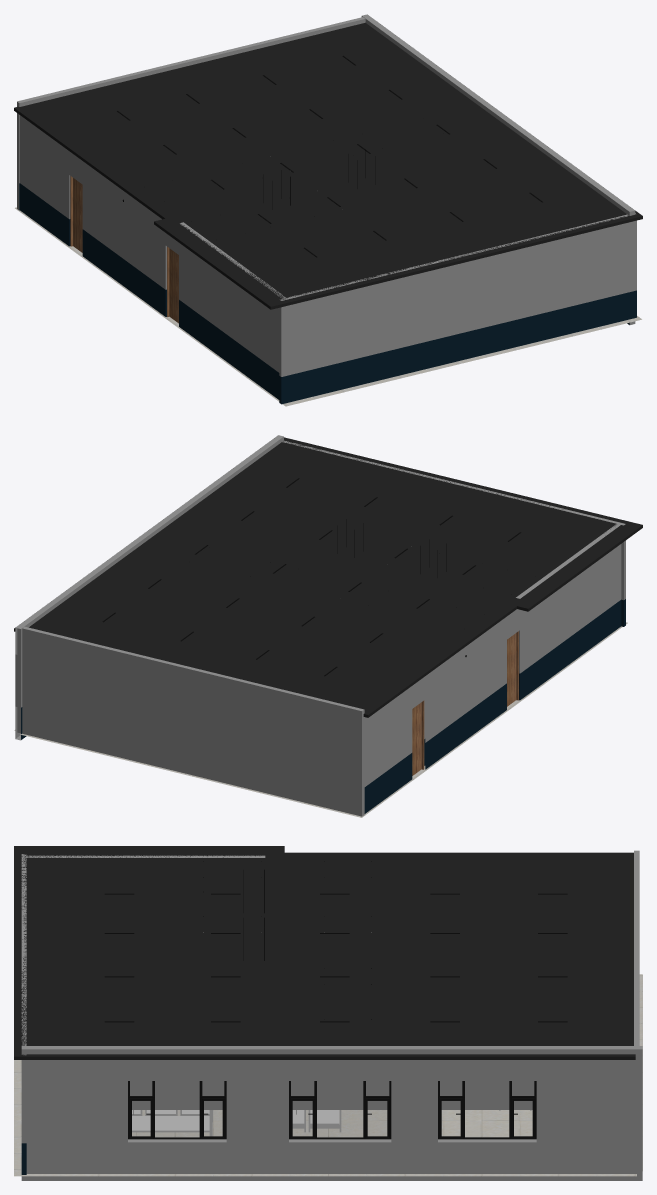
Rendered from fangjian.fbx.
3 renders of one model, top to bottom at view 1: azimuth 30°, elevation 25°; view 2: azimuth 150°, elevation 25°; view 3: azimuth 270°, elevation 25°, orthographic. The views are drawn at different scales.
Parts seen in each view (by area): view 1: wuding, qiangmian_01, qiangmian_02, qiangmian_04, qiangmian_03, dimian, men001, men, diaodeng_002; view 2: wuding, qiangmian_03, qiangmian_02, qiangmian_04, dimian, qiangmian_01, men001, men, diaodeng_002; view 3: wuding, qiangmian_04, chuanghu_boli, dimian, chuanghu, chuangmian_02, chuangmian_007, chuangmian_01, qiangmian_01, chuanghu001, MuZhuoZi016, qiangmian_03 (+3 smaller).
Boxes of the visible parts, x1,y1,x2,y2 form: wuding: (14,22,642,309); qiangmian_01: (279,213,636,404); qiangmian_02: (20,115,285,399); qiangmian_04: (361,14,635,325); qiangmian_03: (17,17,365,210); dimian: (15,207,641,406); men001: (70,176,82,252); men: (167,246,178,323); diaodeng_002: (117,55,542,257); wuding: (14,437,642,717); qiangmian_03: (17,626,364,816); qiangmian_02: (364,523,621,813); qiangmian_04: (15,435,283,740); dimian: (14,622,627,817); qiangmian_01: (282,440,625,626); men001: (412,700,424,775); men: (507,631,518,706); diaodeng_002: (102,478,521,676); wuding: (14,846,635,1059); qiangmian_04: (21,1046,642,1180); chuanghu_boli: (130,1081,388,1137); dimian: (14,974,642,1176); chuanghu: (128,1081,391,1139); chuangmian_02: (291,1081,389,1109); chuangmian_007: (440,1081,534,1109); chuangmian_01: (130,1081,224,1109); qiangmian_01: (21,854,26,1174); chuanghu001: (438,1081,536,1139); MuZhuoZi016: (132,1110,212,1136); qiangmian_03: (634,850,639,1045).
Bounding box in the file's own units: 12998 × 4613 × 16415.
